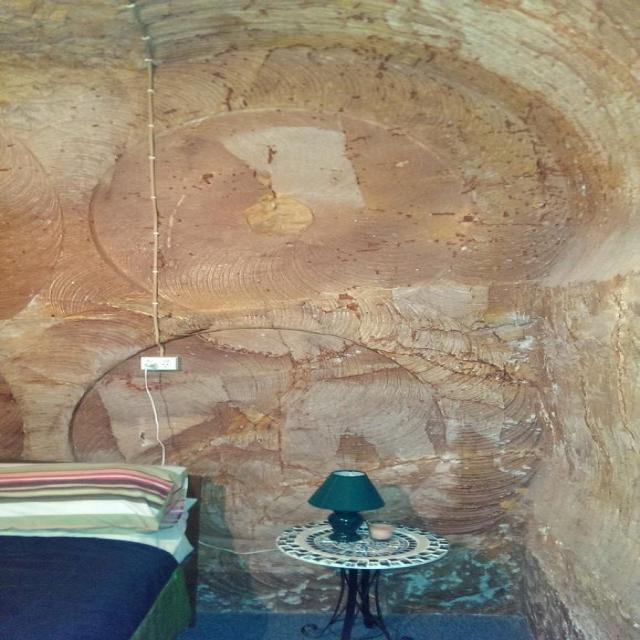table: (272, 518, 450, 640)
